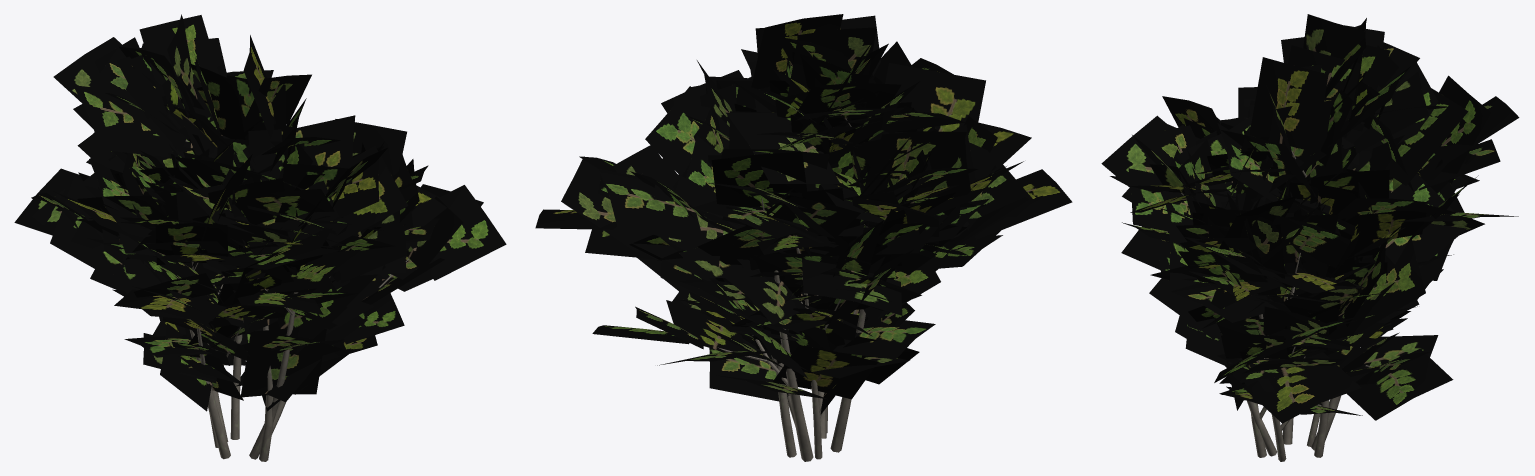
Rendered from hloh_2.glb.
3 renders of one model, left to right at view 1: azimuth 30°, elevation 25°; view 2: azimuth 150°, elevation 25°; view 3: azimuth 270°, elevation 25°, orthographic. The views are drawn at different scales.
Visible parts, largest first — view 1: hloh_2; view 2: hloh_2; view 3: hloh_2.
Part boxes in pixels (box(x1,y1,x2,y2)): hloh_2: box(14, 14, 506, 461); hloh_2: box(535, 14, 1072, 461); hloh_2: box(1101, 14, 1519, 461).
Size of the model in its own units: 2.82 by 2.55 by 2.36.
Materials: 2 (2 with a texture image).
